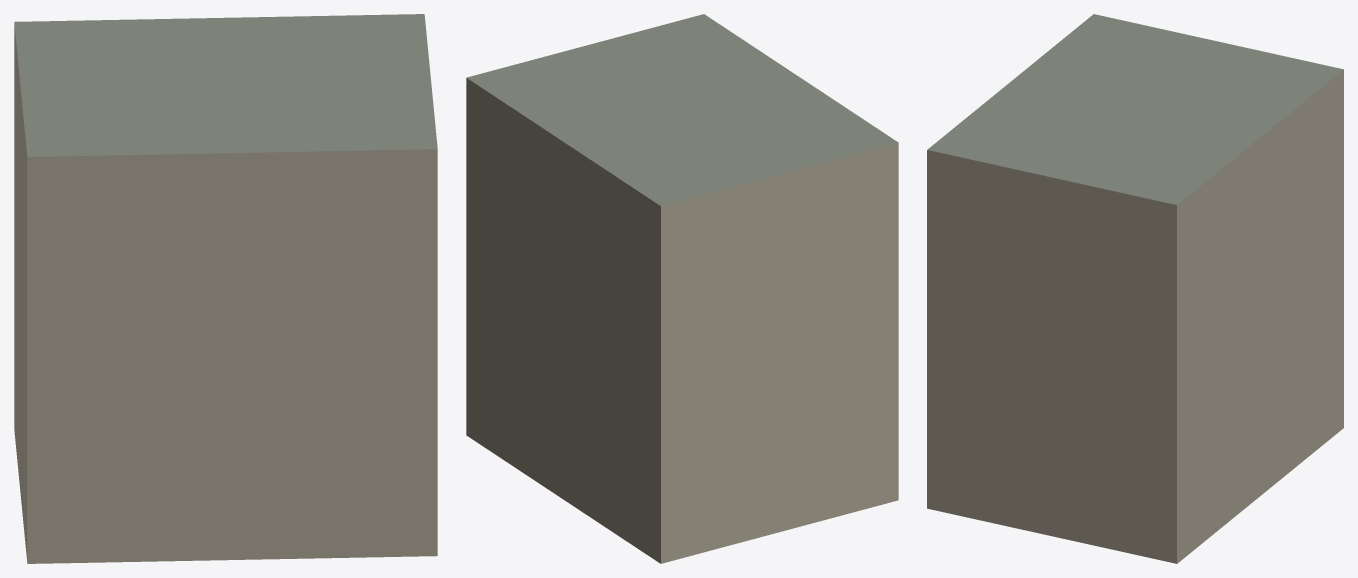
3 renders of one model, left to right at view 1: azimuth 30°, elevation 25°; view 2: azimuth 150°, elevation 25°; view 3: azimuth 270°, elevation 25°, orthographic. The views are drawn at different scales.
Parts seen in each view (by area): view 1: tuile; view 2: tuile; view 3: tuile.
Boxes of the visible parts, x1,y1,x2,y2 form: tuile: [14, 14, 437, 563]; tuile: [466, 14, 898, 563]; tuile: [927, 14, 1343, 563].
Size of the model in its own units: 3.8 by 3.32 by 3.5.
